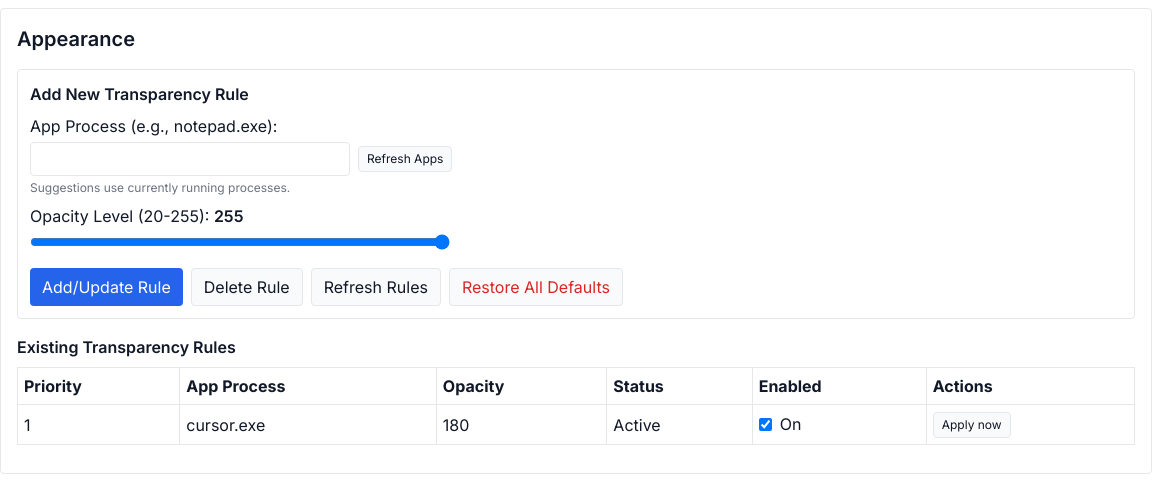
Test: AppearanceTab › restores all defaults after confirmation with count feedback
This screenshot has width=1152, height=491.
Click the button "Restore All Defaults" at (536, 287), box [449, 268, 623, 306]
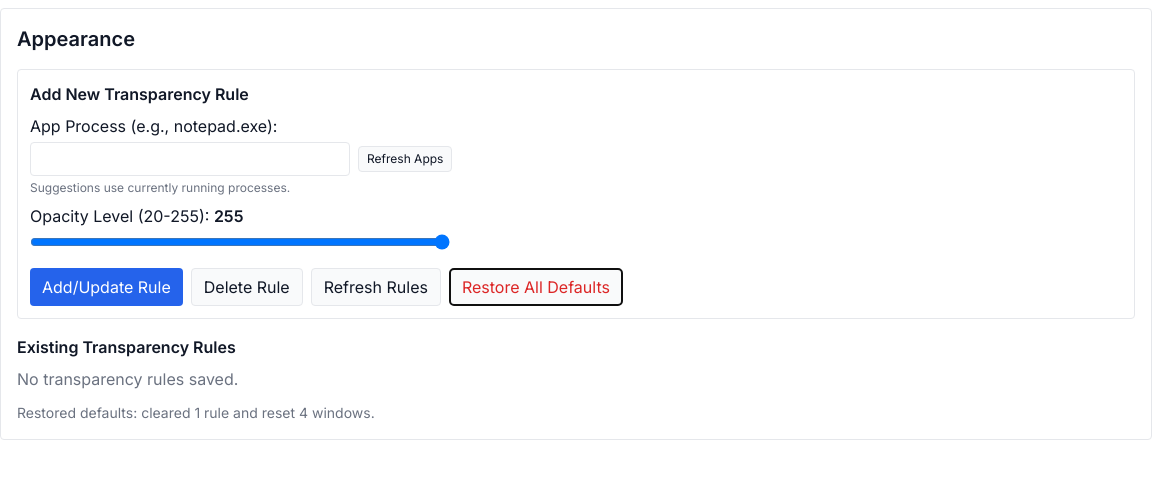
Expected: the text "Restored defaults: cleared 1 rule and reset 4 windows." is shown, [17, 404, 375, 421]
